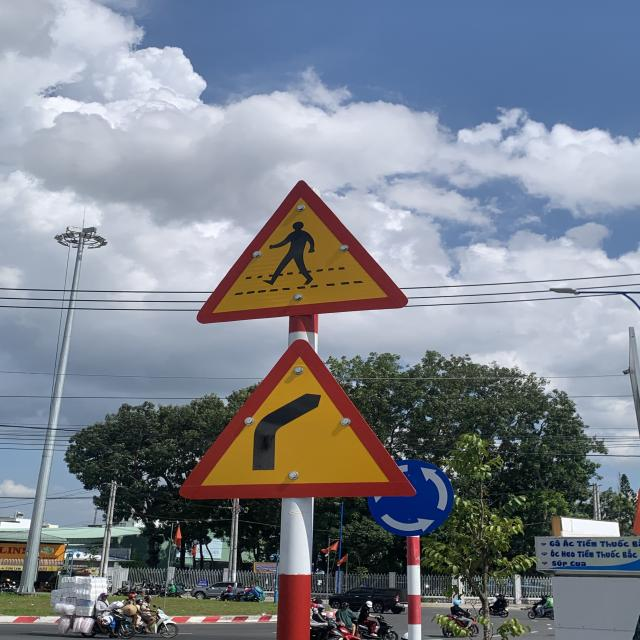Duong_Nguoi_Di_Bo_Cat_Ngang: (176, 335, 414, 499)
Duong_Nguoi_Di_Bo_Sang_Ngang: (194, 178, 408, 326)
